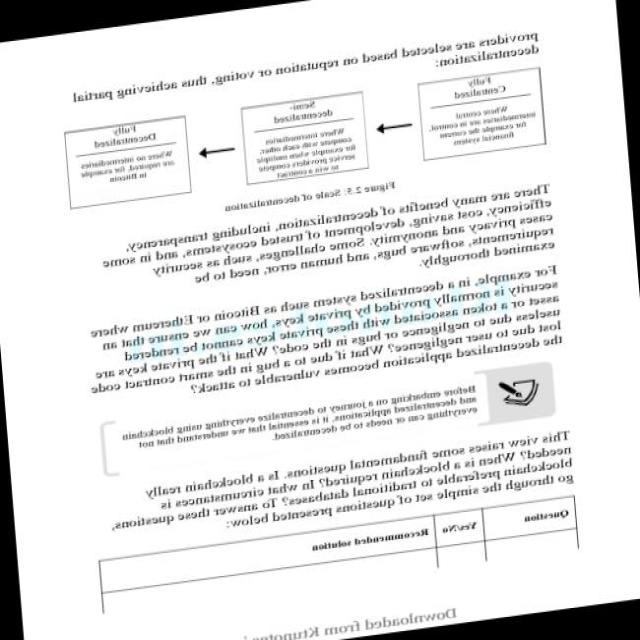Figure Detection - v3 Dataset Version2: (50, 58, 555, 222)
